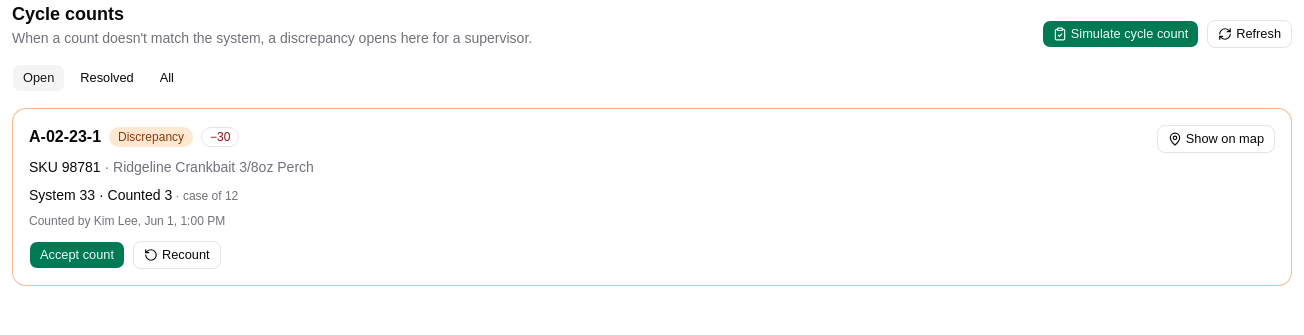
Test case: CycleCountsPage › asks for a recount and shows errors from the server
The width and height of the screenshot is (1304, 335).
Click the button "Recount" at (177, 255), box [133,241,221,269]
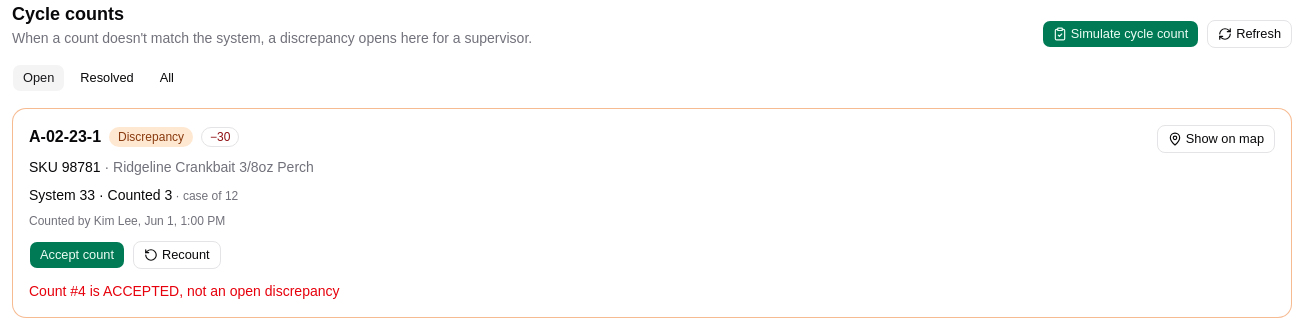
Expected: the text "Count #4 is ACCEPTED, not an open discrepancy" is shown, [29,283,340,299]
